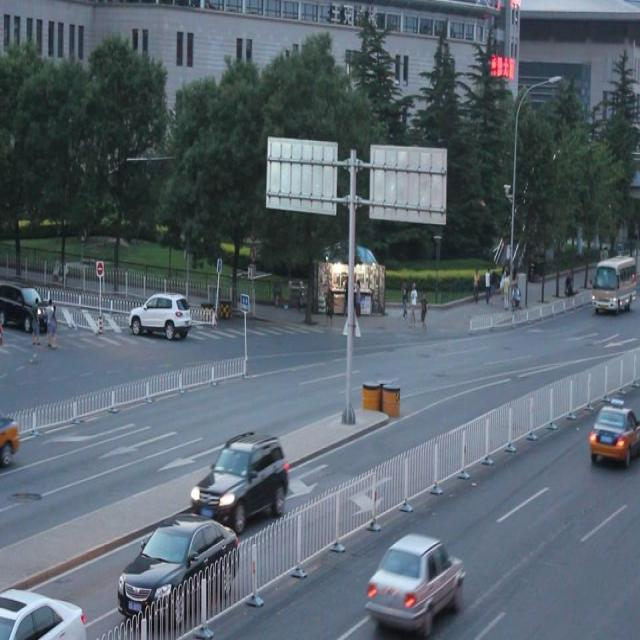car: (119, 512, 240, 623), (187, 429, 288, 527), (365, 530, 463, 626), (0, 586, 88, 640), (586, 399, 640, 462), (128, 293, 193, 343), (12, 283, 52, 331)
truck: (590, 255, 640, 312)
